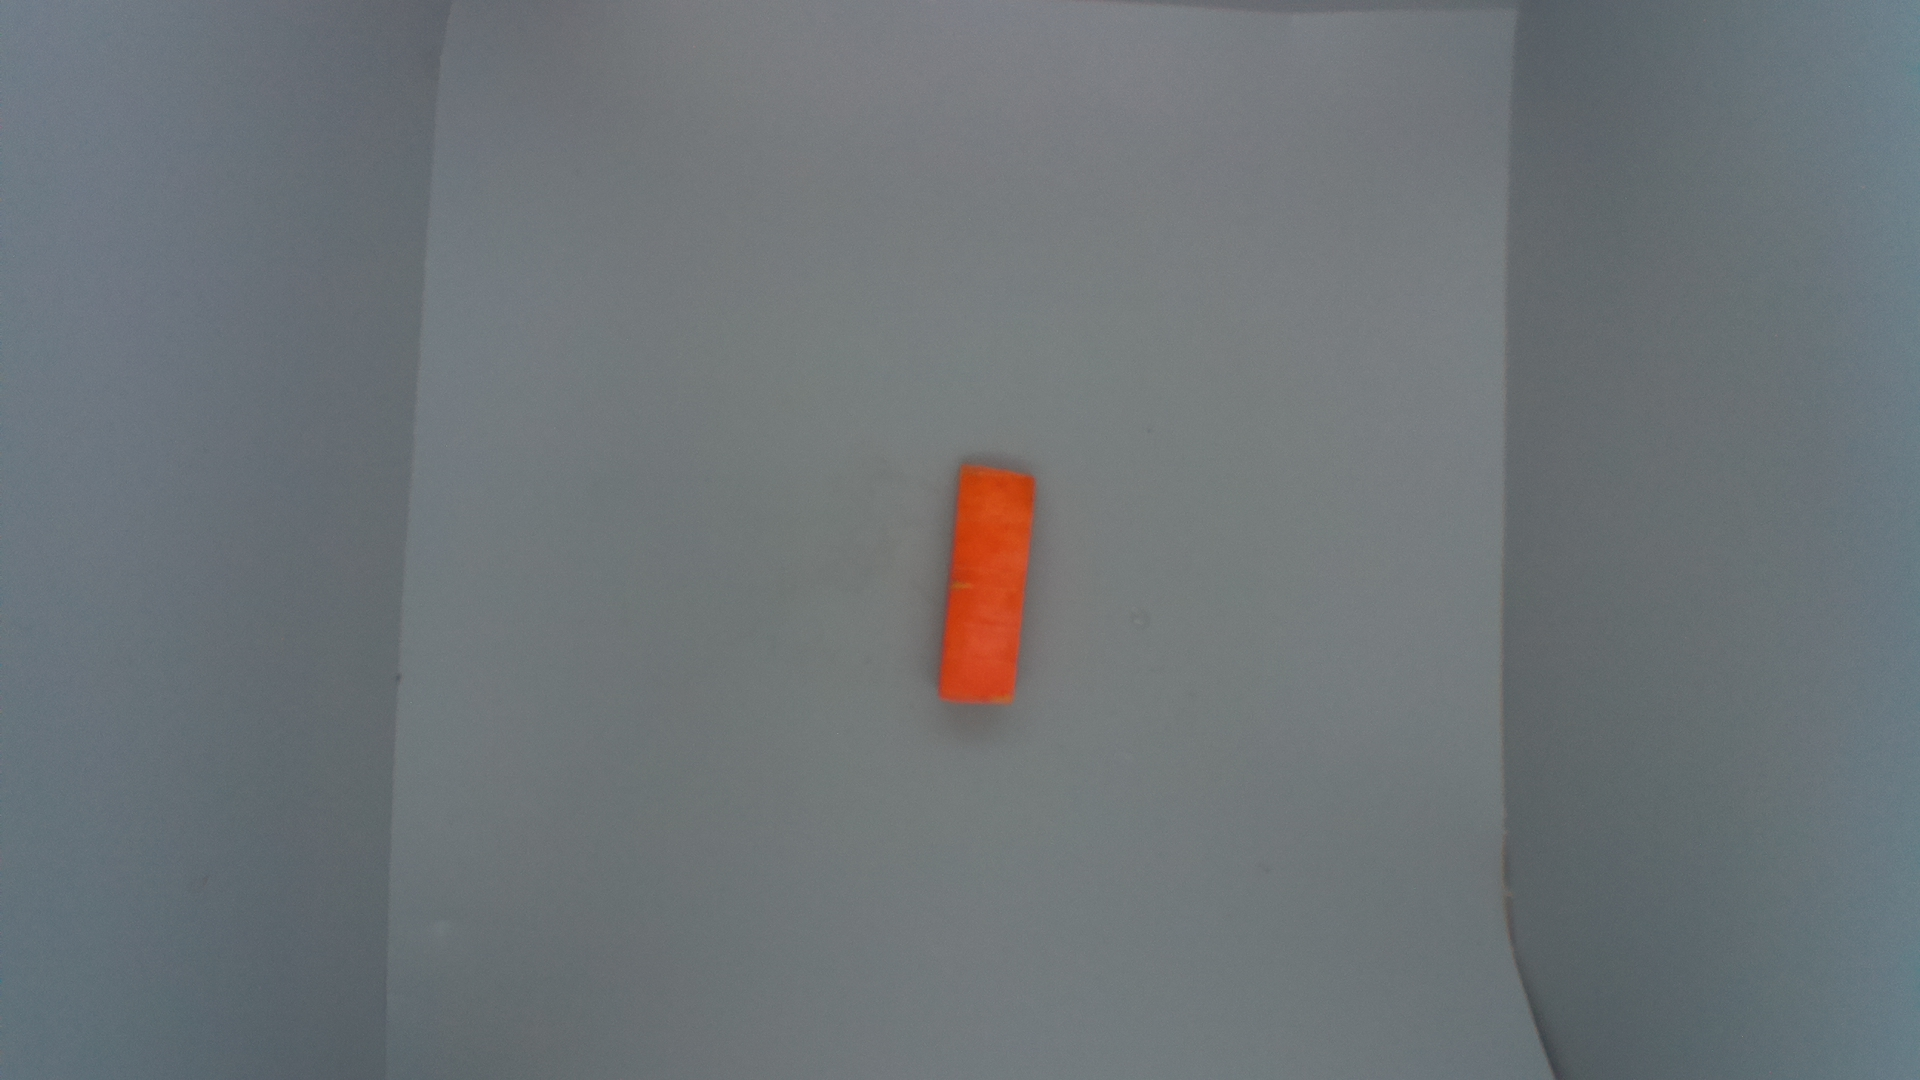carrot: (938, 464, 1040, 709)
